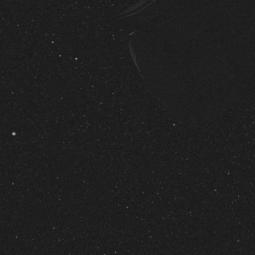cheops: (108, 23, 246, 99)
